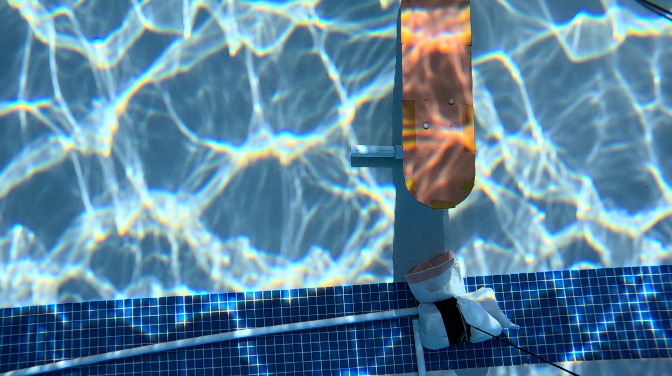pathmarker: (400, 0, 475, 208)
